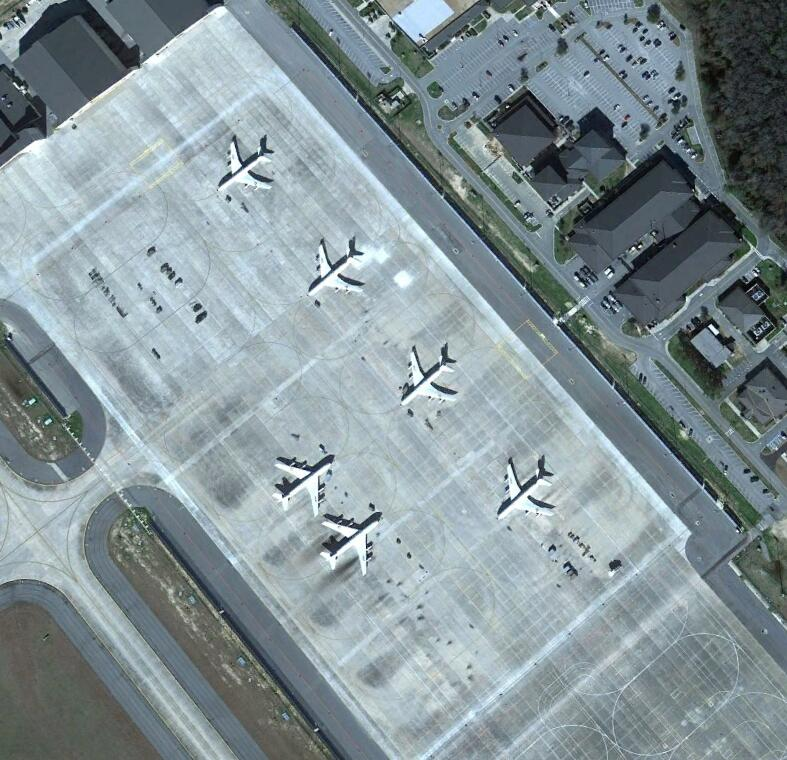A11: (273, 453, 337, 514), (322, 515, 383, 576), (309, 238, 367, 298), (216, 139, 279, 193), (496, 463, 556, 519), (401, 350, 458, 408)
